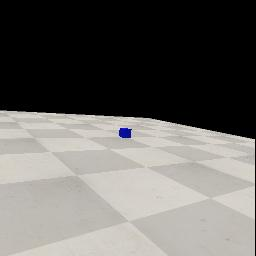box: (119, 128, 132, 138)
